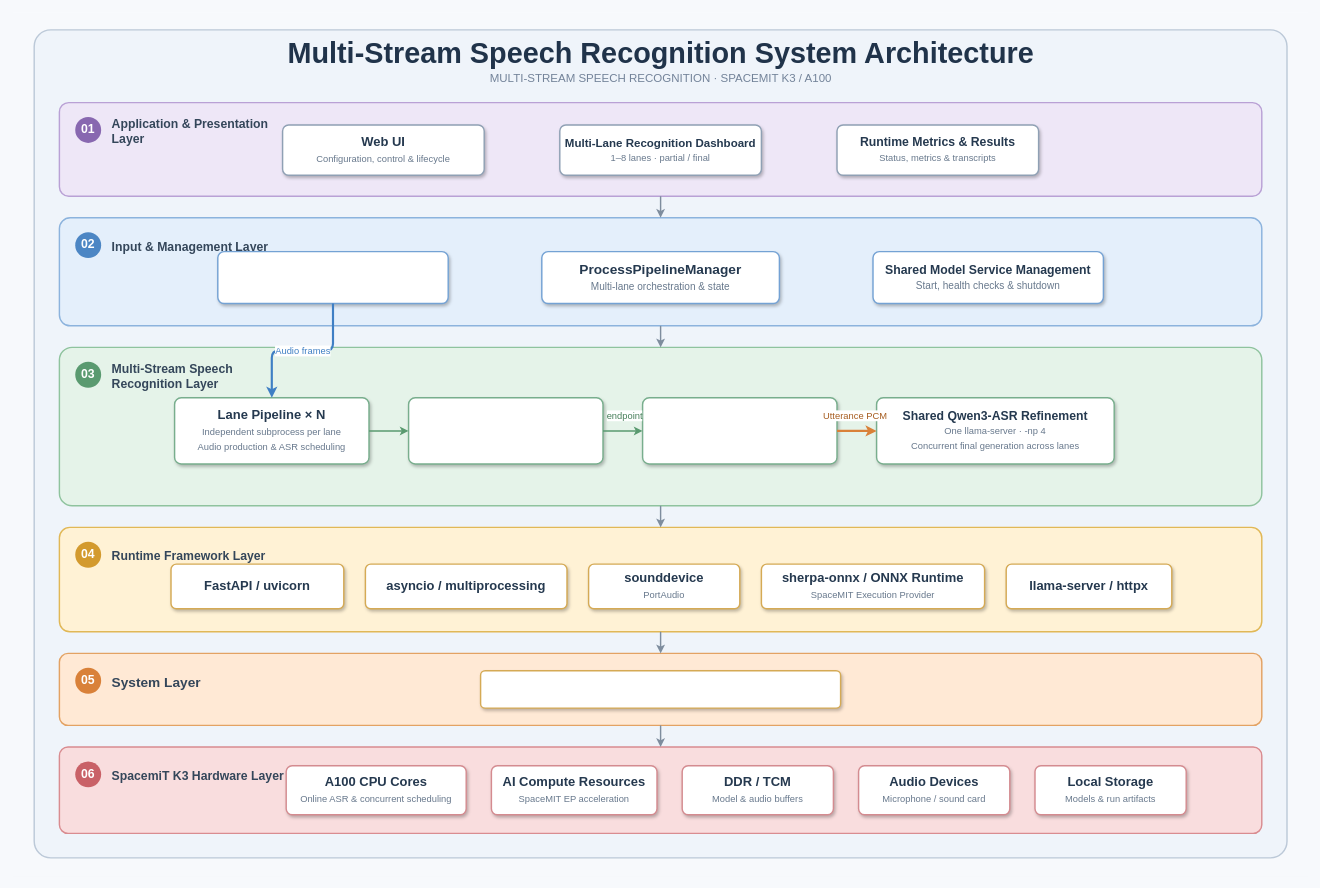
Image size: 1320x888. Some labels were removed from this diagram. Here are the shapes that lost their labels. From the top down, the centre of each, then its label:
At (x=333, y=278): "Audio Input Default WAV / local WAV / microphone".
At (x=506, y=431): "Online Zipformer Recognition 100 ms streaming audio frames partial & endpoint".
At (x=740, y=431): "Segment Buffering & Endpointing SegmentCache Utterance PCM & pending".
At (x=661, y=690): "Bianbu OS".
